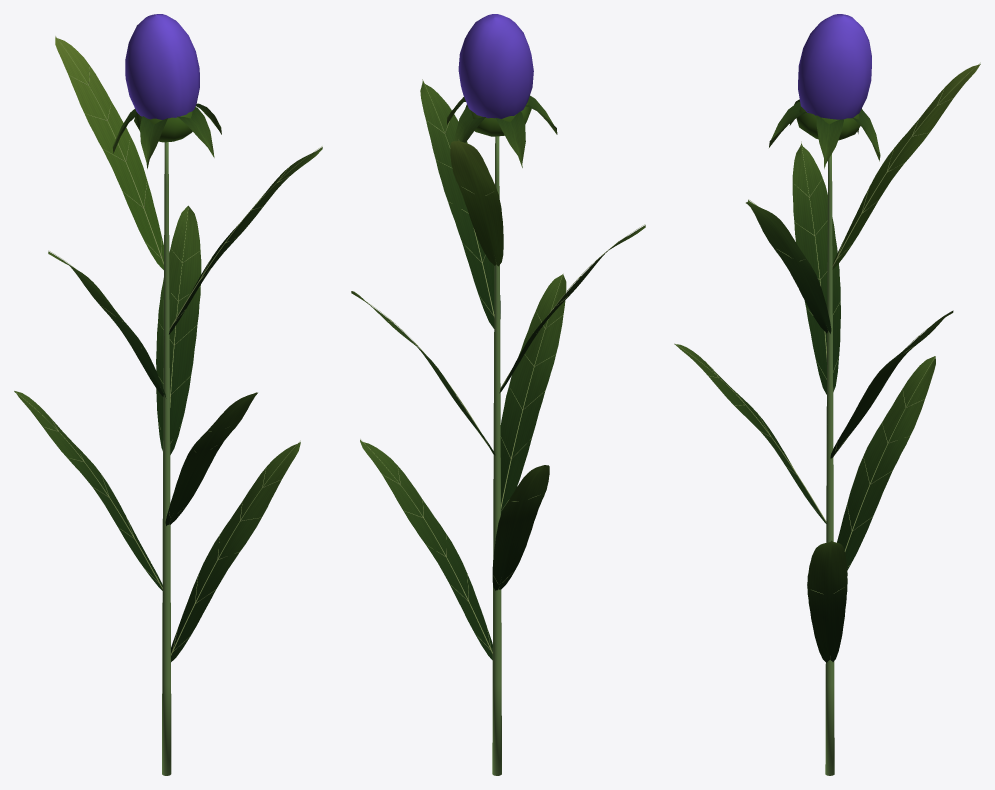
Rendered from iris-08.glb.
3 views of the same model, side by side, from view 1: azimuth 30°, elevation 25°; view 2: azimuth 150°, elevation 25°; view 3: azimuth 270°, elevation 25° (orthographic).
Parts seen in each view (by area): view 1: iris_stage_08_leaf_veins.014, iris_stage_08_young_leaf.014, iris_stage_08_iris_petal.014, iris_stage_08_stem_fibres.014, iris_stage_08_raised_midveins.014; view 2: iris_stage_08_leaf_veins.014, iris_stage_08_iris_petal.014, iris_stage_08_young_leaf.014, iris_stage_08_stem_fibres.014, iris_stage_08_raised_midveins.014; view 3: iris_stage_08_leaf_veins.014, iris_stage_08_iris_petal.014, iris_stage_08_young_leaf.014, iris_stage_08_stem_fibres.014, iris_stage_08_raised_midveins.014.
Boxes of the visible parts, x1,y1,x2,y2 form: iris_stage_08_leaf_veins.014: (14,103,322,662); iris_stage_08_young_leaf.014: (55,37,195,269); iris_stage_08_iris_petal.014: (125,14,199,119); iris_stage_08_stem_fibres.014: (162,142,171,775); iris_stage_08_raised_midveins.014: (15,36,321,655); iris_stage_08_leaf_veins.014: (351,80,645,660); iris_stage_08_iris_petal.014: (458,14,533,118); iris_stage_08_young_leaf.014: (450,102,531,266); iris_stage_08_stem_fibres.014: (492,136,501,775); iris_stage_08_raised_midveins.014: (360,79,645,653); iris_stage_08_leaf_veins.014: (674,99,953,662); iris_stage_08_iris_petal.014: (798,14,871,119); iris_stage_08_young_leaf.014: (796,64,980,269); iris_stage_08_stem_fibres.014: (825,154,834,775); iris_stage_08_raised_midveins.014: (674,62,980,659).
Bounding box in the file's own units: 0.2579 × 0.6942 × 0.2548.
Materials: 5 (3 with a texture image).
